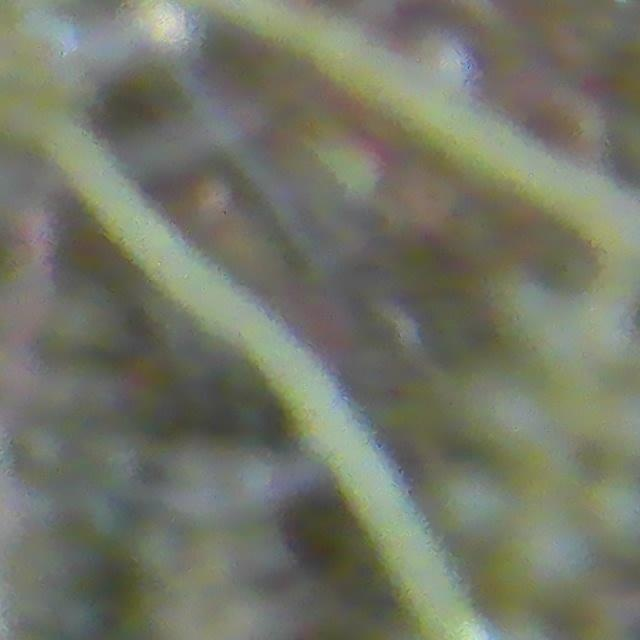SeaGrape: (492, 510, 589, 613), (499, 272, 575, 356), (470, 371, 543, 454), (585, 476, 640, 561), (436, 468, 502, 535)
